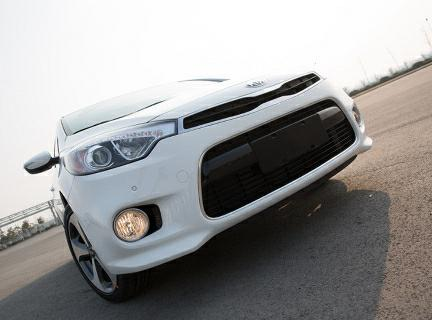起亚-K3S: (17, 67, 378, 304)
